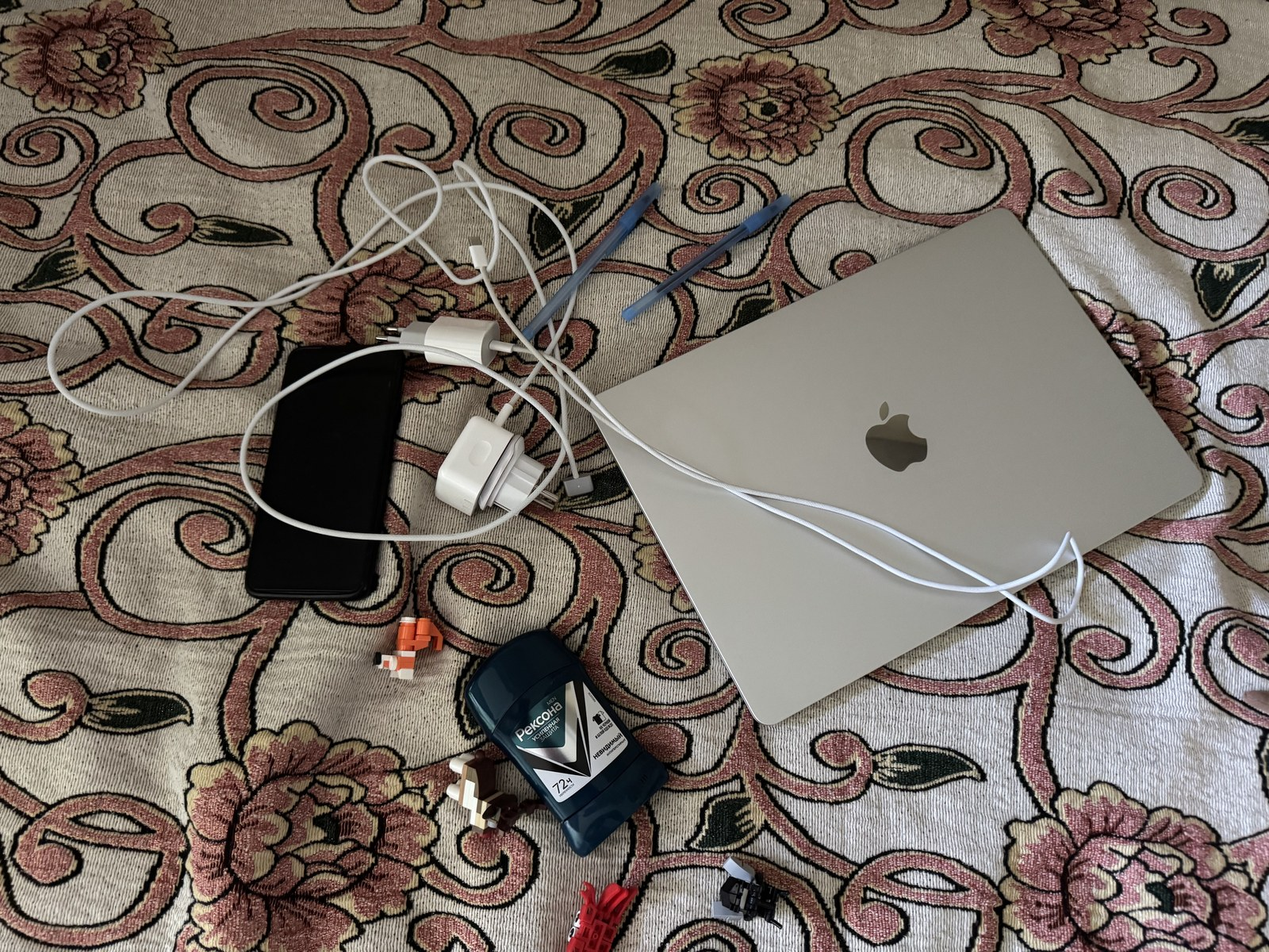cell phone: (244, 343, 405, 602)
laptop: (588, 206, 1207, 726)
